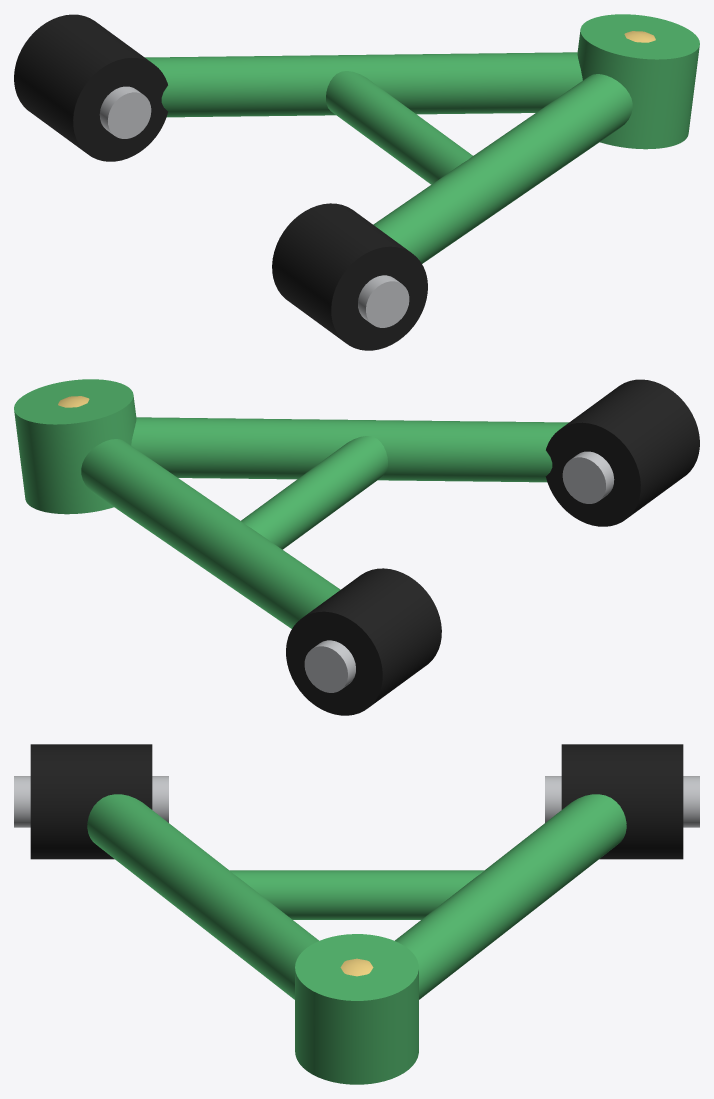
File: upper_arm.glb
3 renders of one model, top to bottom at view 1: azimuth 30°, elevation 25°; view 2: azimuth 150°, elevation 25°; view 3: azimuth 270°, elevation 25°, orthographic. The views are drawn at different scales.
Visible parts, largest first — view 1: upper_0, bush_1, steel_2; view 2: upper_0, bush_1, steel_2; view 3: upper_0, bush_1, steel_2.
Part boxes in pixels (<box>): upper_0: <box>145,14,699,263</box>; bush_1: <box>14,14,427,350</box>; steel_2: <box>99,86,409,327</box>; upper_0: <box>14,379,568,628</box>; bush_1: <box>286,379,699,715</box>; steel_2: <box>304,451,614,692</box>; upper_0: <box>87,794,626,1084</box>; bush_1: <box>30,744,683,859</box>; steel_2: <box>14,776,699,827</box>.
Bounding box in the file's own units: 0.2788 × 0.0521 × 0.31.
